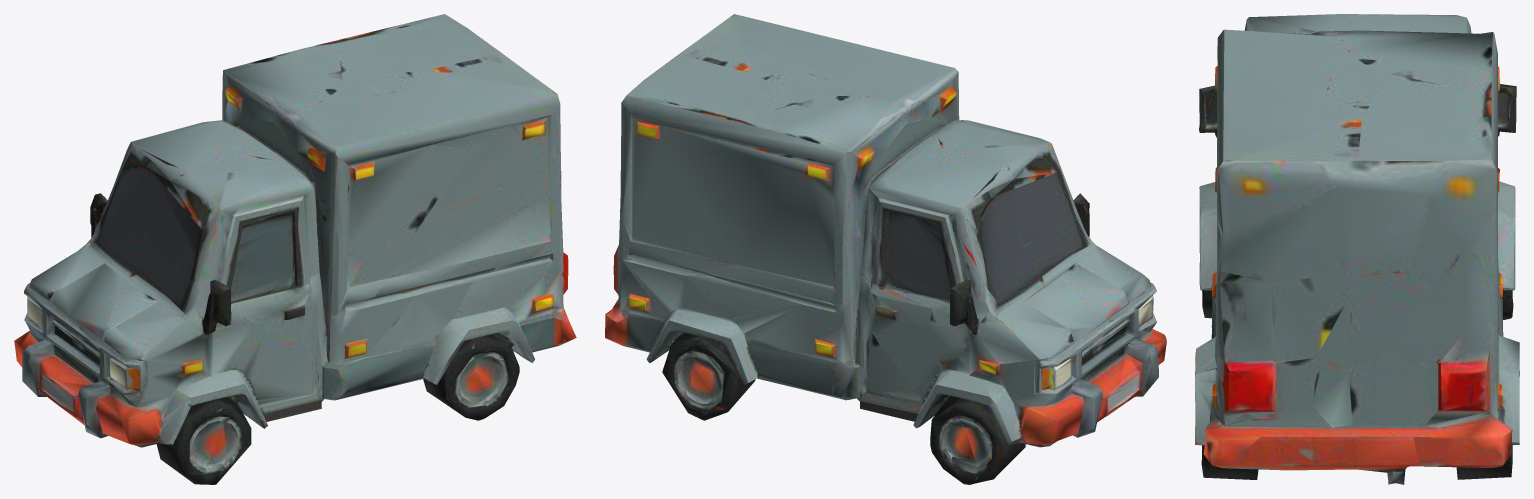
The model's file is van.glb.
3 views of the same model, side by side, from view 1: azimuth 30°, elevation 25°; view 2: azimuth 150°, elevation 25°; view 3: azimuth 270°, elevation 25° (orthographic). The views are drawn at different scales.
Size of the model in its own units: 1.9 by 1.19 by 0.9478.
Materials: 1 (1 with a texture image).
